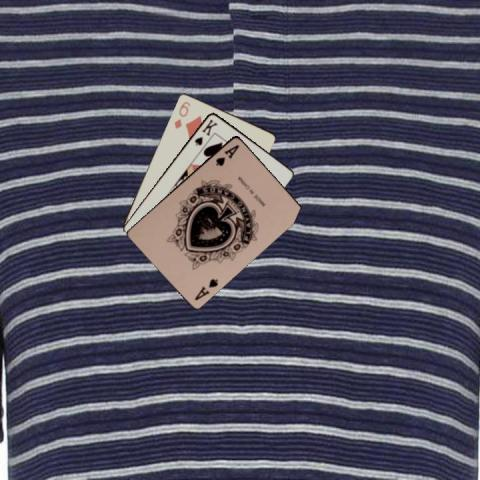6d: (171, 98, 192, 130)
As: (212, 142, 240, 168), (192, 276, 220, 302)
Ks: (191, 116, 219, 147)
